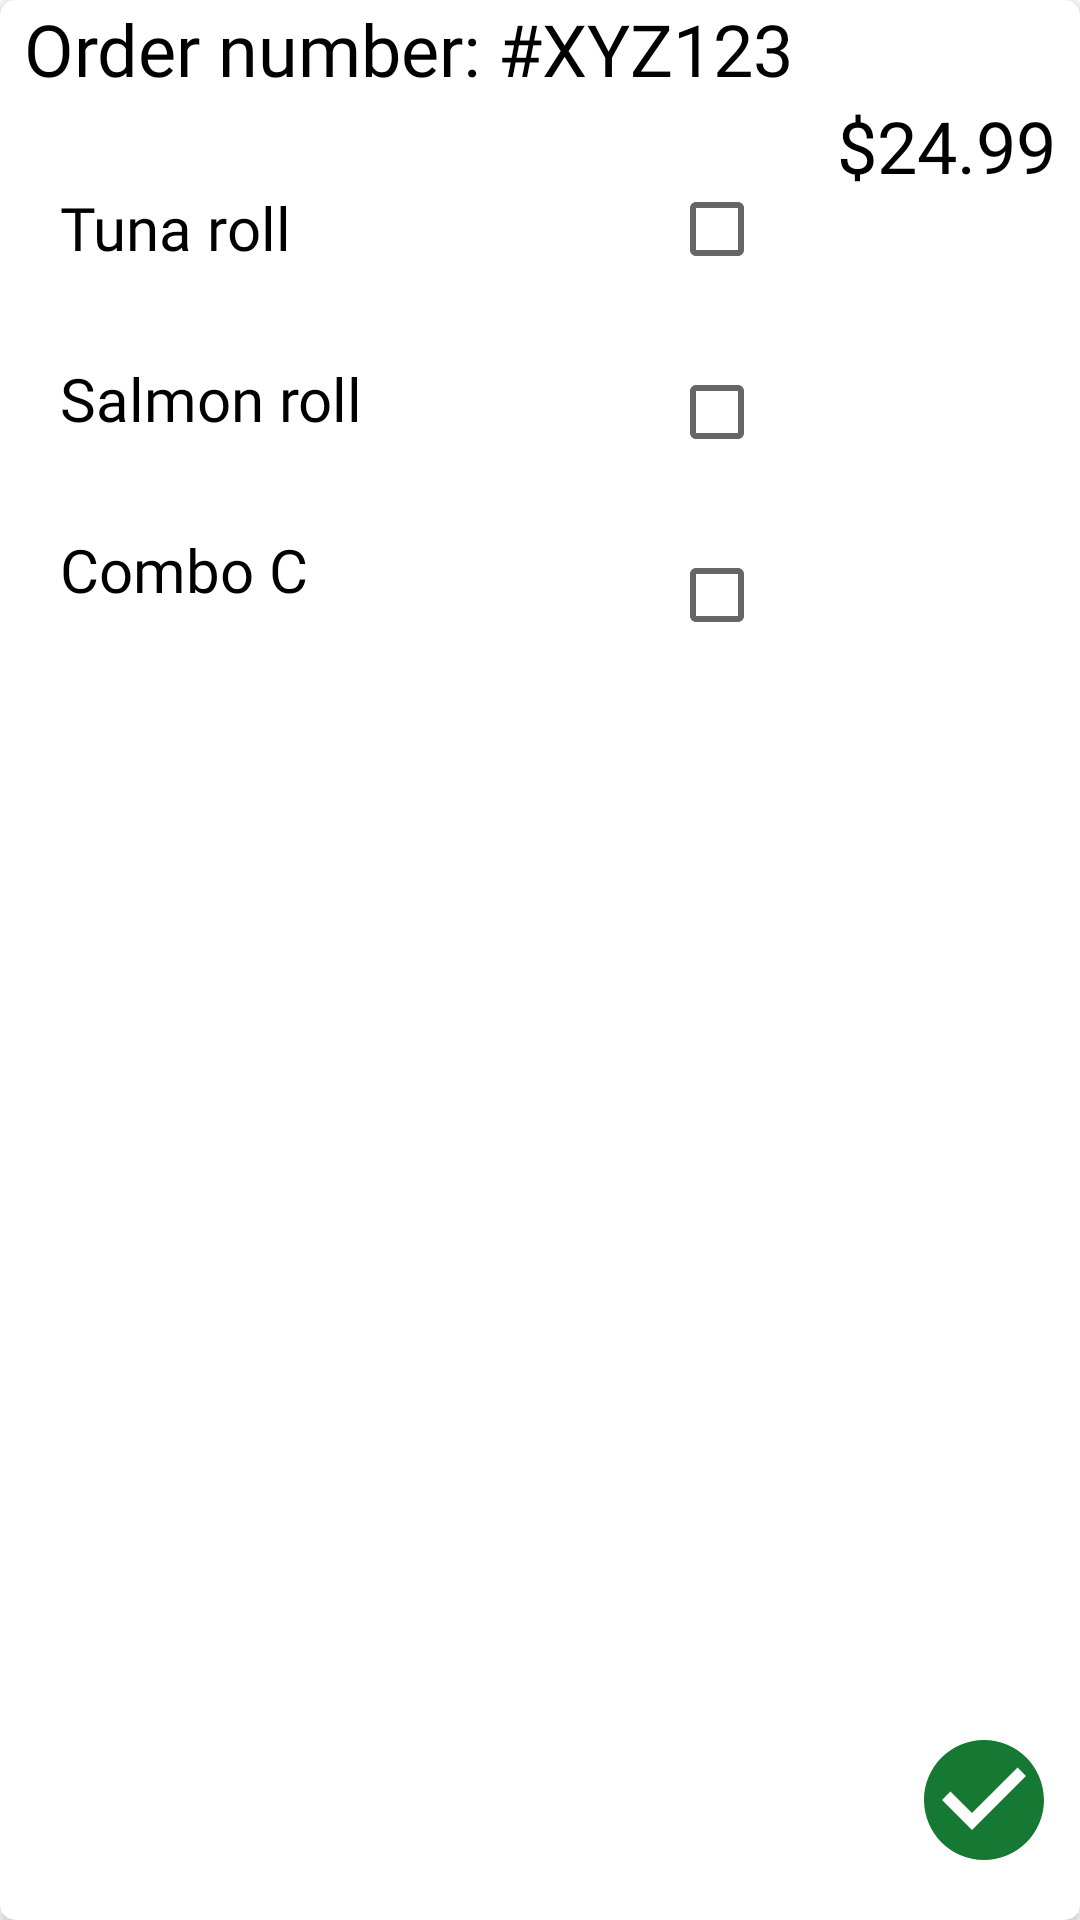

Screen size 1080×1920. Icon name, then its box in pixels as (x1, y1, x2, y2):
check circle: (924, 1740, 1044, 1860)
